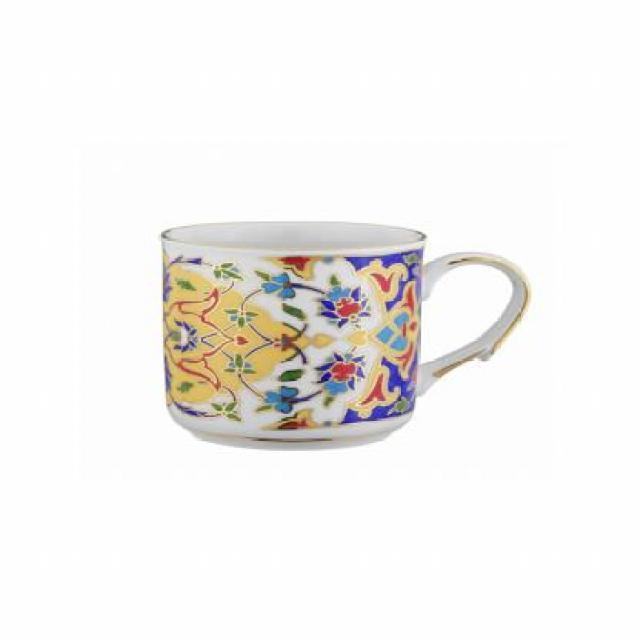taza: (154, 216, 538, 452)
